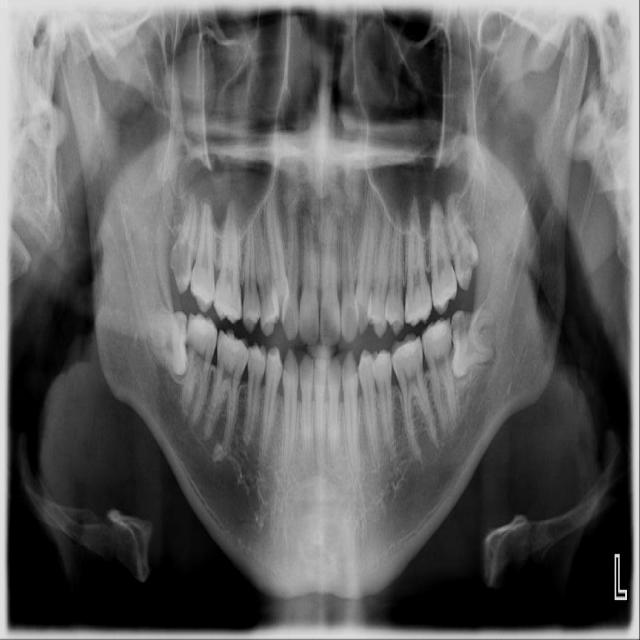Caries: (168, 242, 188, 276), (450, 310, 472, 340)
Periapical lesion: (213, 443, 226, 461)
Root Canal Treatment: (587, 579, 593, 595)
impacted tooth: (450, 310, 504, 380), (138, 311, 188, 379)
